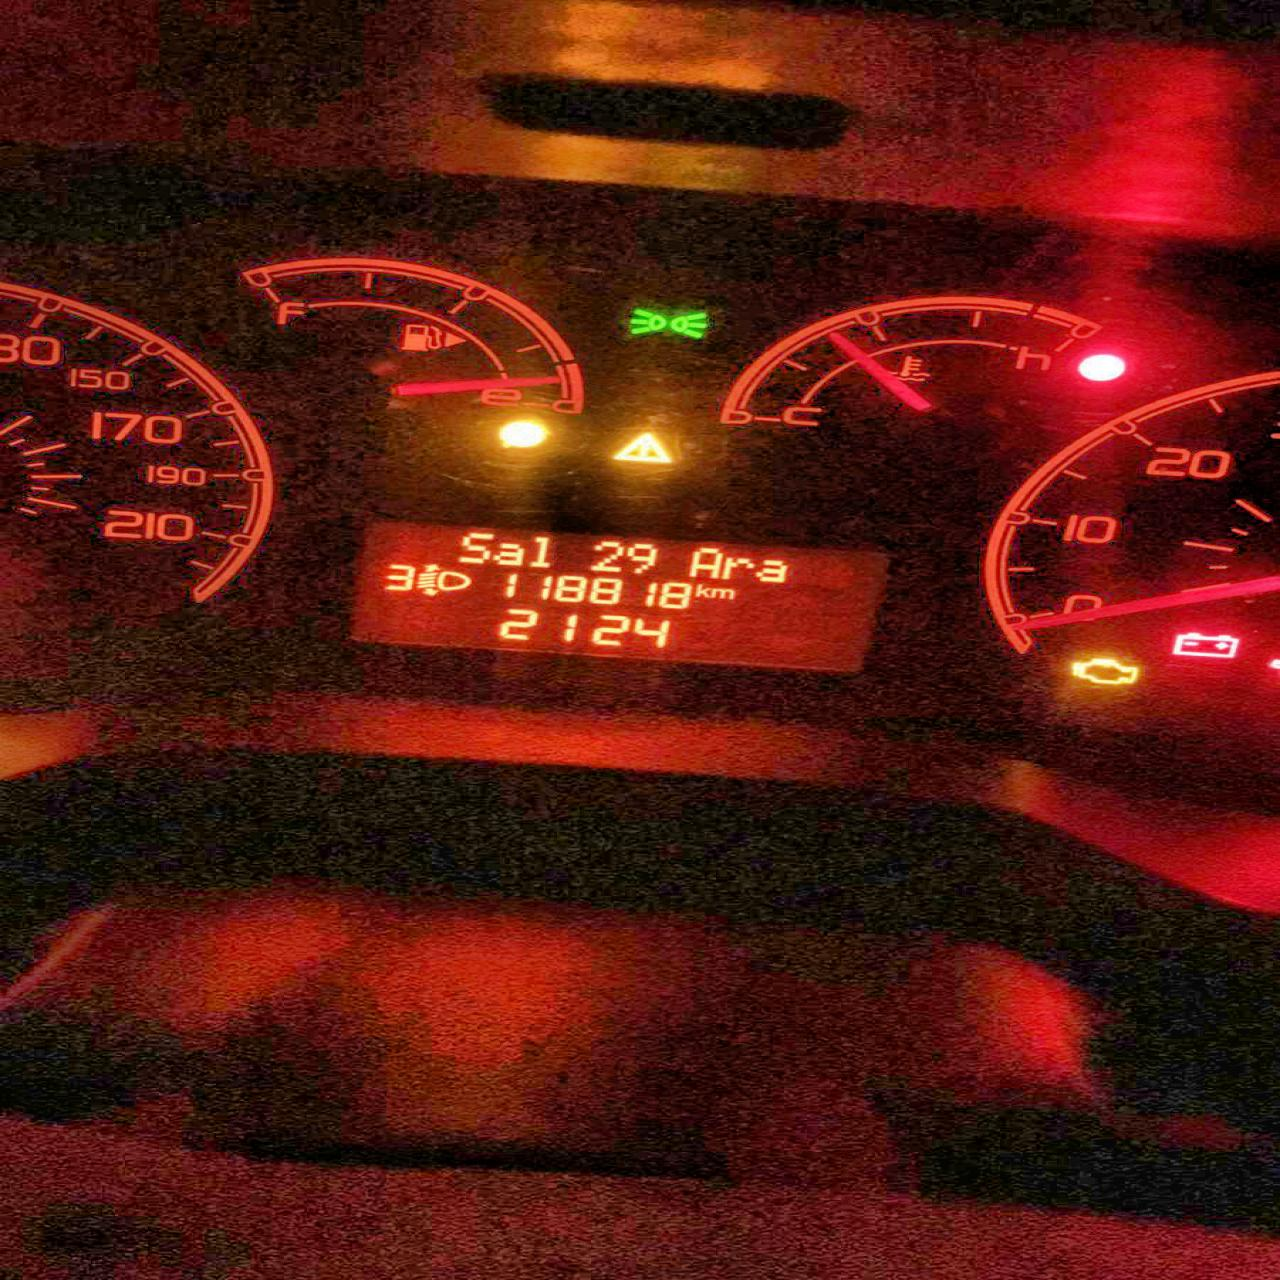1: (558, 612, 577, 642), (502, 570, 518, 598), (537, 574, 553, 600), (641, 580, 656, 606)
2: (496, 606, 540, 641), (591, 612, 631, 646), (590, 538, 624, 574)
3: (381, 562, 413, 592)
4: (632, 616, 671, 647)
8: (659, 580, 691, 610), (590, 575, 622, 605), (553, 574, 585, 603)
9: (627, 540, 659, 574)
X: (456, 529, 490, 563), (689, 544, 722, 578), (722, 553, 754, 581), (491, 541, 523, 566), (533, 532, 554, 570), (756, 558, 788, 582), (710, 586, 739, 600), (692, 582, 713, 599)
odometer: (346, 522, 896, 676)
